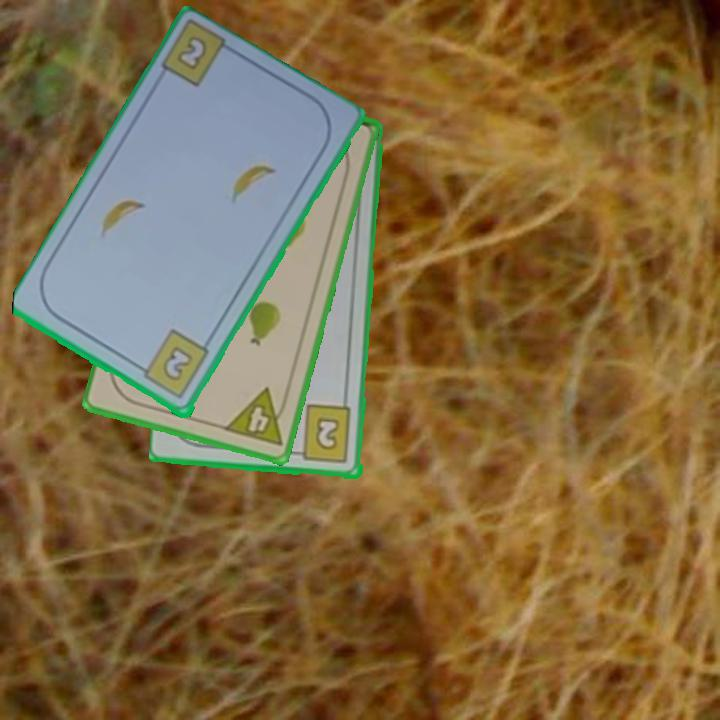2b: (133, 327, 212, 403), (290, 403, 355, 466), (176, 35, 207, 70)
4p: (221, 384, 292, 449)
